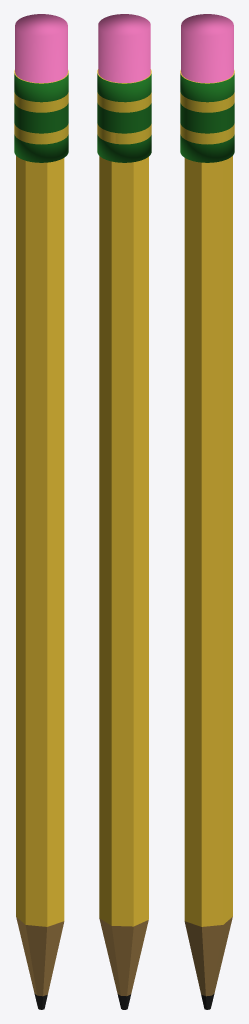
File: pencil.fbx
3 views of the same model, side by side, from view 1: azimuth 90°, elevation 25°; view 2: azimuth 150°, elevation 25°; view 3: azimuth 270°, elevation 25° (orthographic).
Parts seen in each view (by area): view 1: Cylinder.001; view 2: Cylinder.001; view 3: Cylinder.001.
Part boxes in pixels (x1,y1,x2,y2): Cylinder.001: (14,14,68,1009); Cylinder.001: (97,14,151,1009); Cylinder.001: (180,14,234,1009).
Bounding box in the file's own units: 32.21 × 639 × 32.21.
